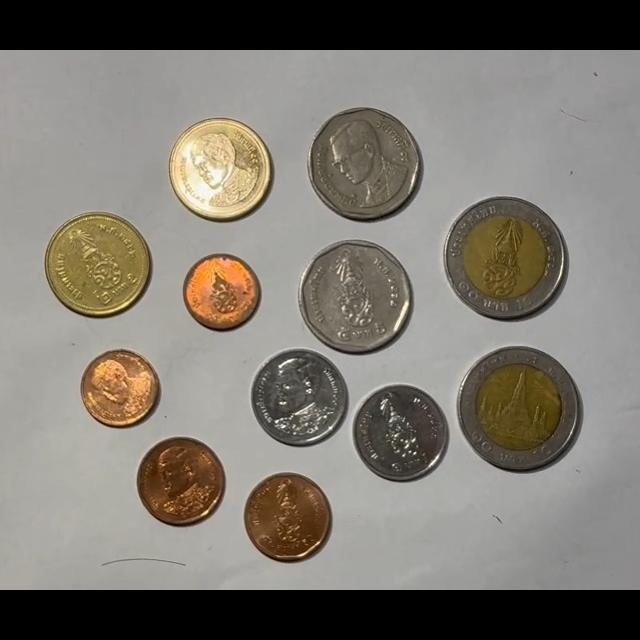1-baht: (352, 384, 450, 481), (251, 348, 347, 446)
10-baht: (458, 346, 583, 472), (443, 196, 568, 319)
2-baht: (45, 212, 150, 317), (168, 118, 273, 222)
25-satang: (81, 349, 160, 428), (183, 253, 261, 330)
5-baht: (307, 107, 422, 221), (299, 240, 413, 354)
50-satang: (243, 473, 331, 561), (137, 438, 225, 526)
